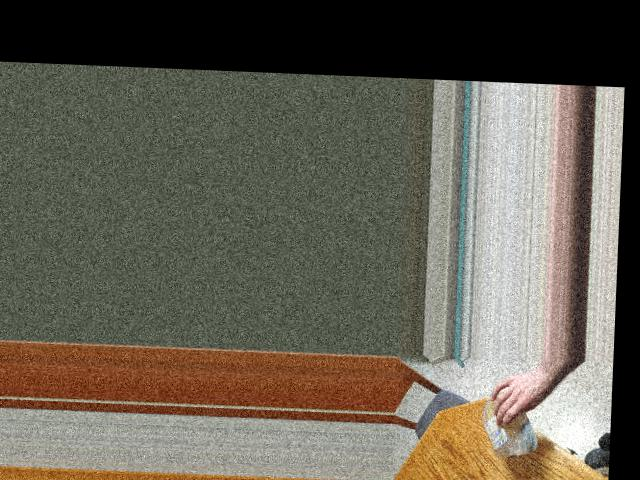cheese: (488, 395, 533, 456)
